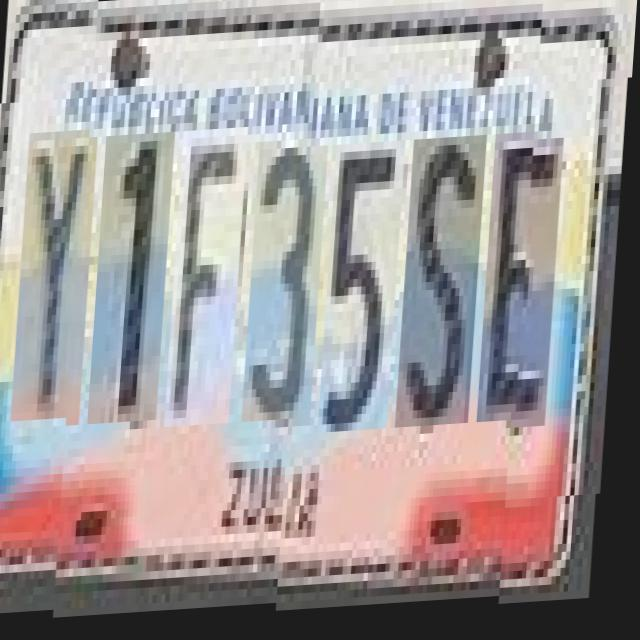1: (94, 134, 178, 426)
3: (248, 142, 331, 426)
5: (324, 138, 408, 430)
E: (483, 130, 567, 422)
F: (170, 130, 250, 430)
S: (402, 134, 489, 426)
Y: (16, 138, 100, 430)
